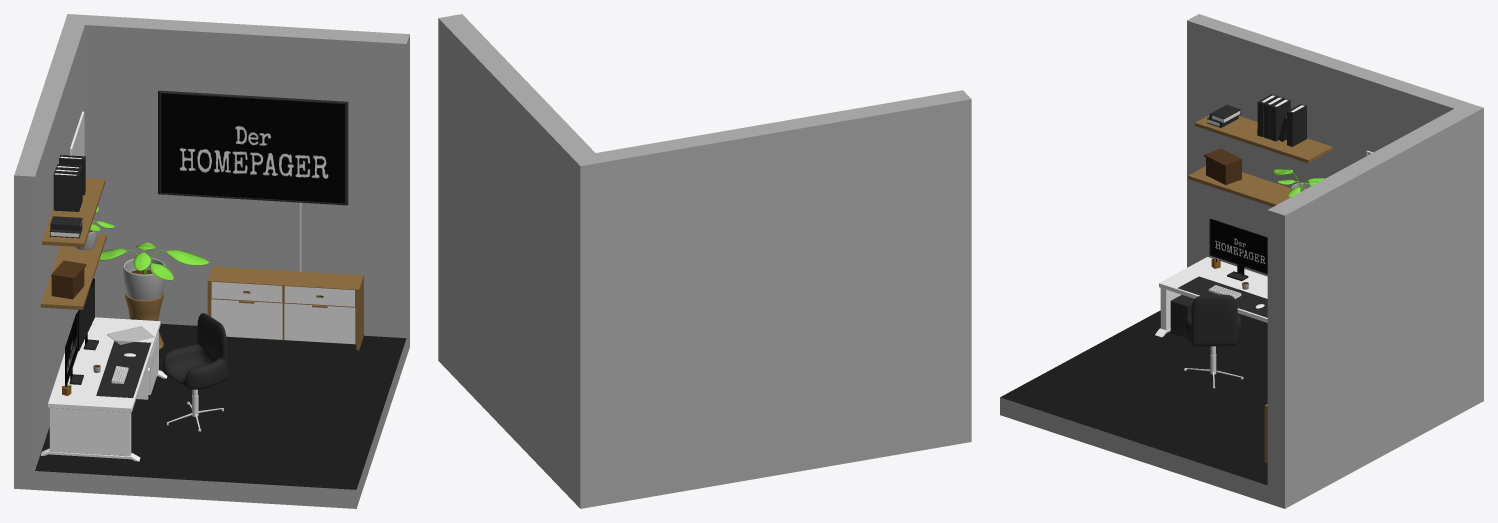
The model's file is alphagoFour.glb.
3 renders of one model, left to right at view 1: azimuth 30°, elevation 25°; view 2: azimuth 150°, elevation 25°; view 3: azimuth 270°, elevation 25°, orthographic. The views are drawn at different scales.
Visible parts, largest first — view 1: Floorobj.001, tv.003, last.001, tabletop.001, tablelegs.001, chair.001, mousepad.001, tv.002, Cube.090, shelftop.008, flpot.003, Cube.091 (+8 smaller); view 2: Floorobj.001; view 3: Floorobj.001, chair.001, tabletop.001, shelftop.008, monitor.005, Cube.090, mousepad.001, Cube.091, shelftop.015, pc.001, shelftop.013.
Part boxes in pixels (x1,y1,x2,y2): Floorobj.001: (14,14,409,508); tv.003: (161,93,344,203); last.001: (207,266,363,350); tabletop.001: (48,317,160,412); tablelegs.001: (49,331,158,456); chair.001: (163,313,227,389); mousepad.001: (96,341,150,397); tv.002: (158,90,348,205); Cube.090: (40,234,106,309); shelftop.008: (42,178,105,247); flpot.003: (123,258,165,300); Cube.091: (51,260,86,299); Floorobj.001: (438,14,971,508); Floorobj.001: (1000,14,1483,508); chair.001: (1184,294,1241,346); tabletop.001: (1159,257,1267,322); shelftop.008: (1195,115,1332,163); monitor.005: (1210,220,1267,273); Cube.090: (1188,166,1291,206); mousepad.001: (1178,276,1267,317); Cube.091: (1204,148,1242,184); shelftop.015: (1287,103,1306,146); pc.001: (1170,295,1194,337); shelftop.013: (1270,98,1290,141).
Size of the model in its own units: 23.94 by 16.23 by 24.26.
15 materials, 1 textured.
